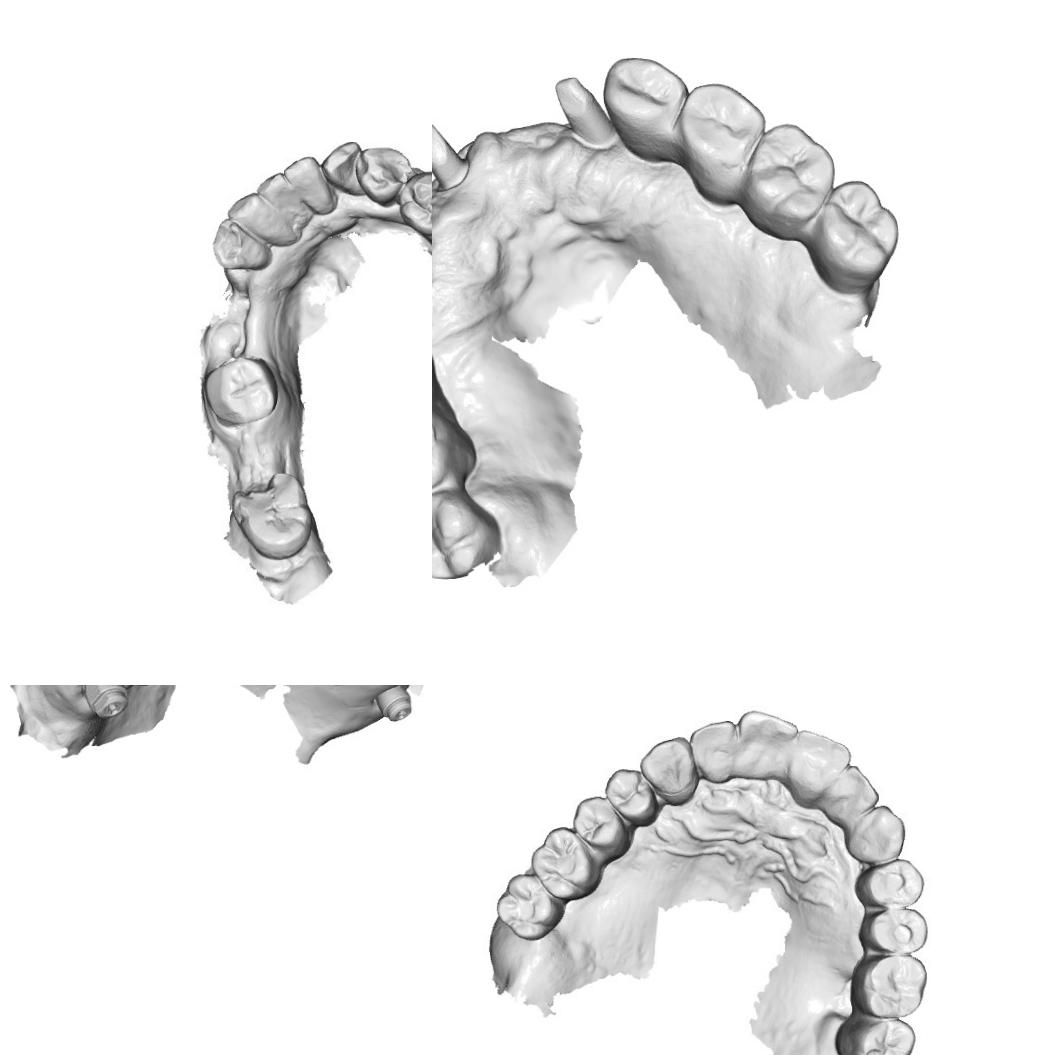abutment: (549, 75, 616, 153), (432, 120, 474, 194)
canine: (636, 735, 700, 808), (842, 803, 908, 866), (320, 138, 364, 198)
implant: (86, 685, 128, 719), (380, 686, 414, 723)
incisor: (783, 728, 853, 810), (736, 707, 799, 781), (225, 192, 300, 249), (818, 762, 882, 824), (686, 718, 742, 786), (210, 217, 274, 272), (253, 171, 308, 224), (281, 154, 331, 211)
molar: (747, 121, 836, 226), (816, 178, 903, 281), (227, 467, 315, 562), (528, 824, 602, 902), (847, 951, 930, 1019), (432, 490, 492, 582), (206, 353, 280, 427), (493, 870, 562, 944), (831, 1013, 918, 1055), (432, 398, 463, 497)
premolar: (677, 82, 767, 181), (598, 54, 688, 144), (854, 857, 926, 915), (570, 794, 628, 860), (353, 144, 410, 210), (856, 906, 931, 955), (603, 767, 662, 829), (397, 170, 432, 237)
